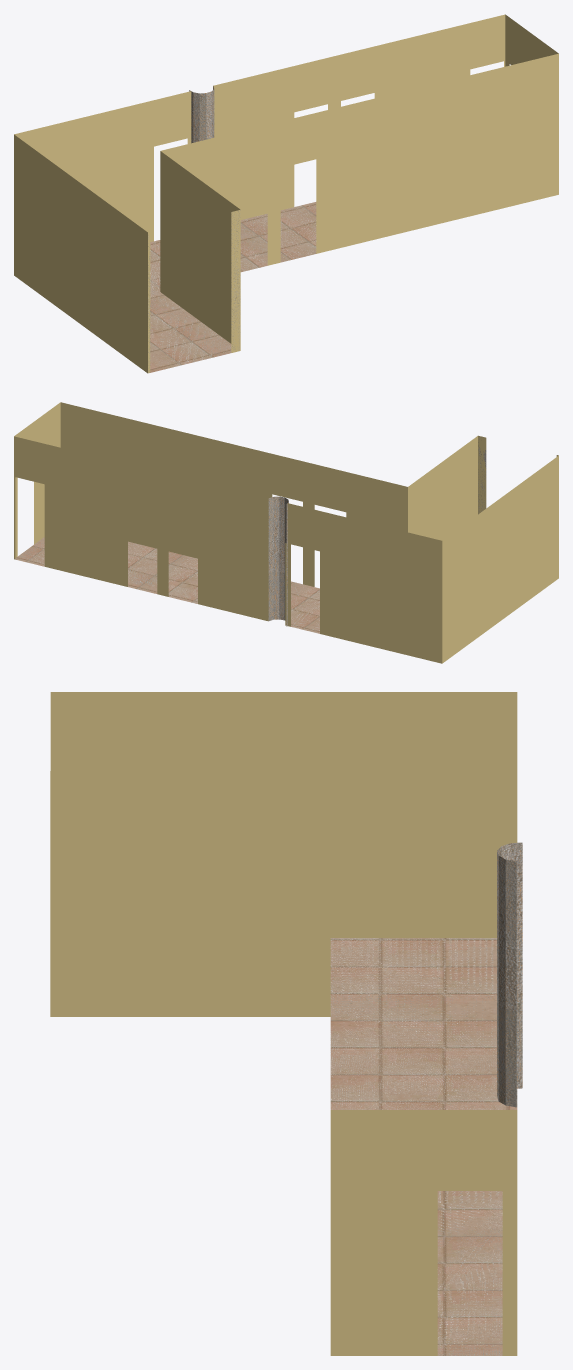
The model's file is COM026.obj.
The picture shows the model from 3 angles, top to bottom: view 1: azimuth 30°, elevation 25°; view 2: azimuth 150°, elevation 25°; view 3: azimuth 270°, elevation 25°; orthographic projection. The views are drawn at different scales.
Visible parts, largest first — view 1: Mesh1 COM026 Model; view 2: Mesh1 COM026 Model; view 3: Mesh1 COM026 Model.
Boxes of the visible parts, <box> form: Mesh1 COM026 Model: <box>14,14,558,373</box>; Mesh1 COM026 Model: <box>14,402,558,663</box>; Mesh1 COM026 Model: <box>50,692,522,1355</box>.
Bounding box in the file's own units: 10.93 × 3 × 5.22.
Materials: 4 (2 with a texture image).
